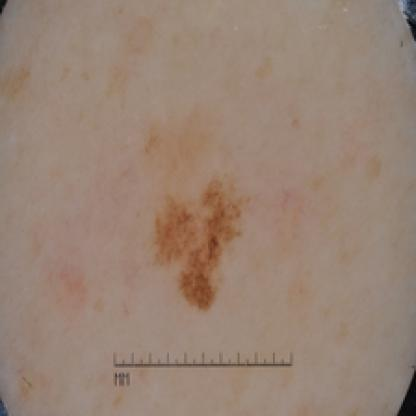malignant: (147, 172, 247, 318)
